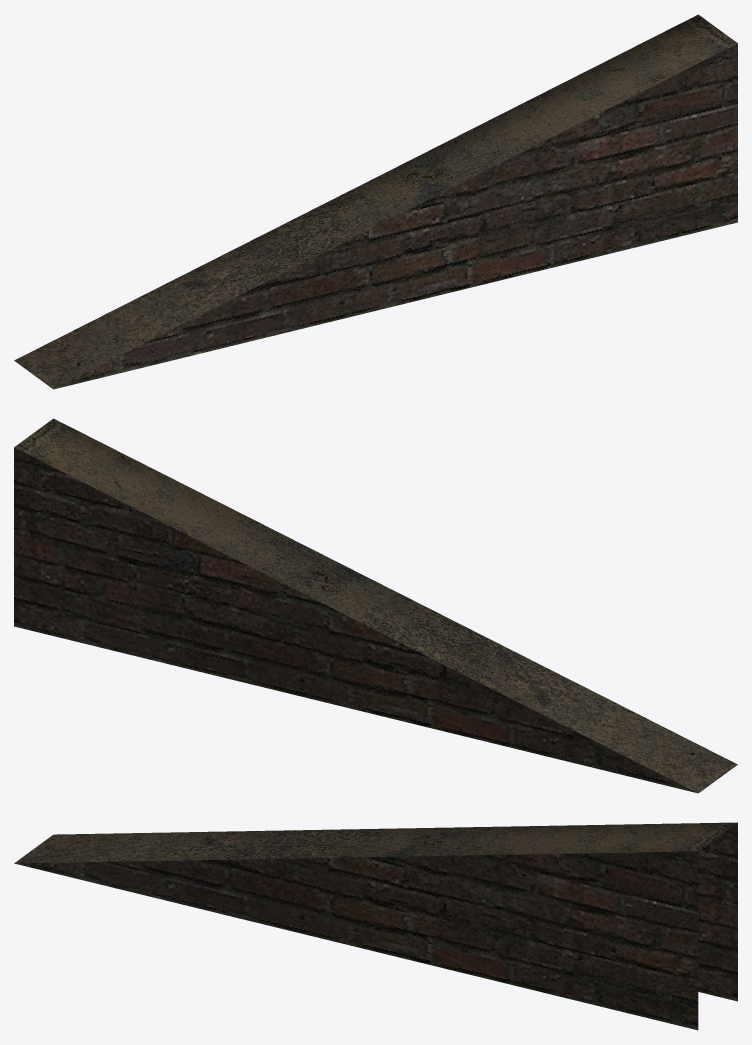
File: wall_top_part_hs_1.glb
The picture shows the model from 3 angles, top to bottom: view 1: azimuth 30°, elevation 25°; view 2: azimuth 150°, elevation 25°; view 3: azimuth 330°, elevation 25°; orthographic projection.
Visible parts, largest first — view 1: wall_top_part_hs_1; view 2: wall_top_part_hs_1; view 3: wall_top_part_hs_1.
Boxes of the visible parts, left/top/right/bottom form: wall_top_part_hs_1: left=14, top=14, right=737, bottom=389; wall_top_part_hs_1: left=14, top=418, right=737, bottom=793; wall_top_part_hs_1: left=14, top=822, right=737, bottom=1030.
Size of the model in its own units: 4 by 1 by 0.4.
Materials: 2 (2 with a texture image).
